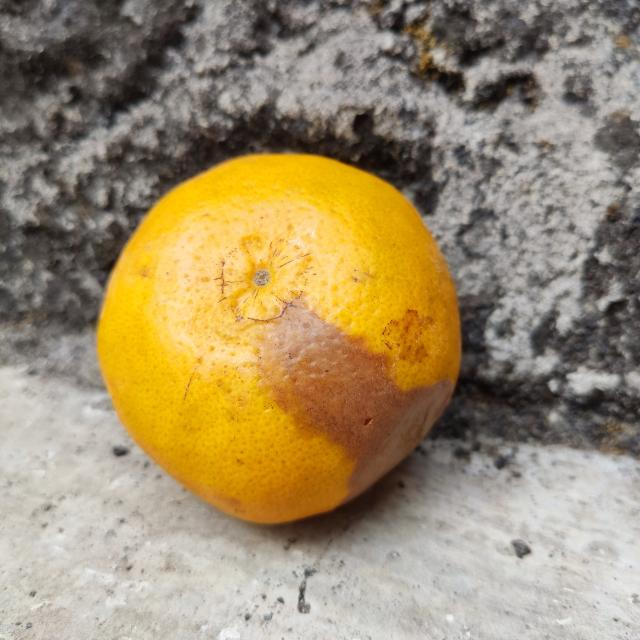orange: (94, 151, 462, 525)
